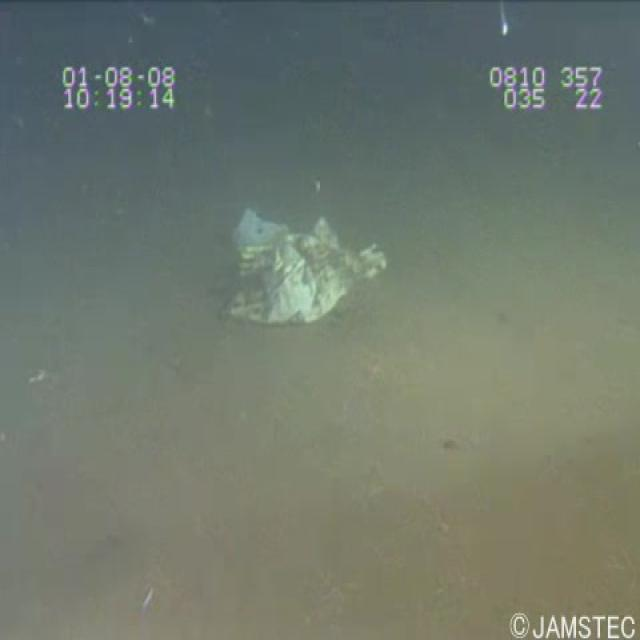plastic: (206, 195, 402, 348)
